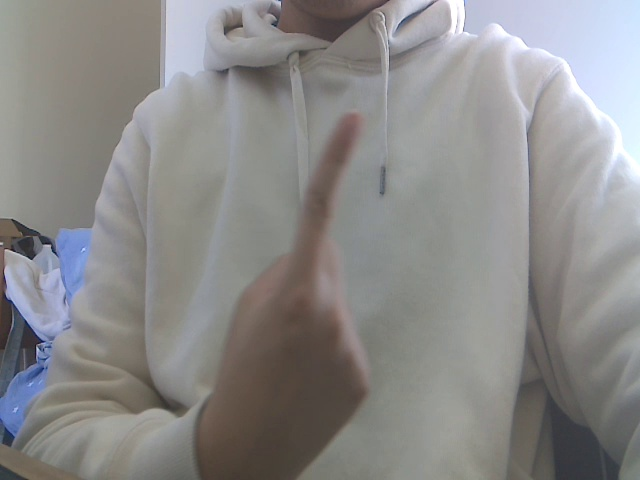hand_gesture_1: (176, 88, 402, 480)
